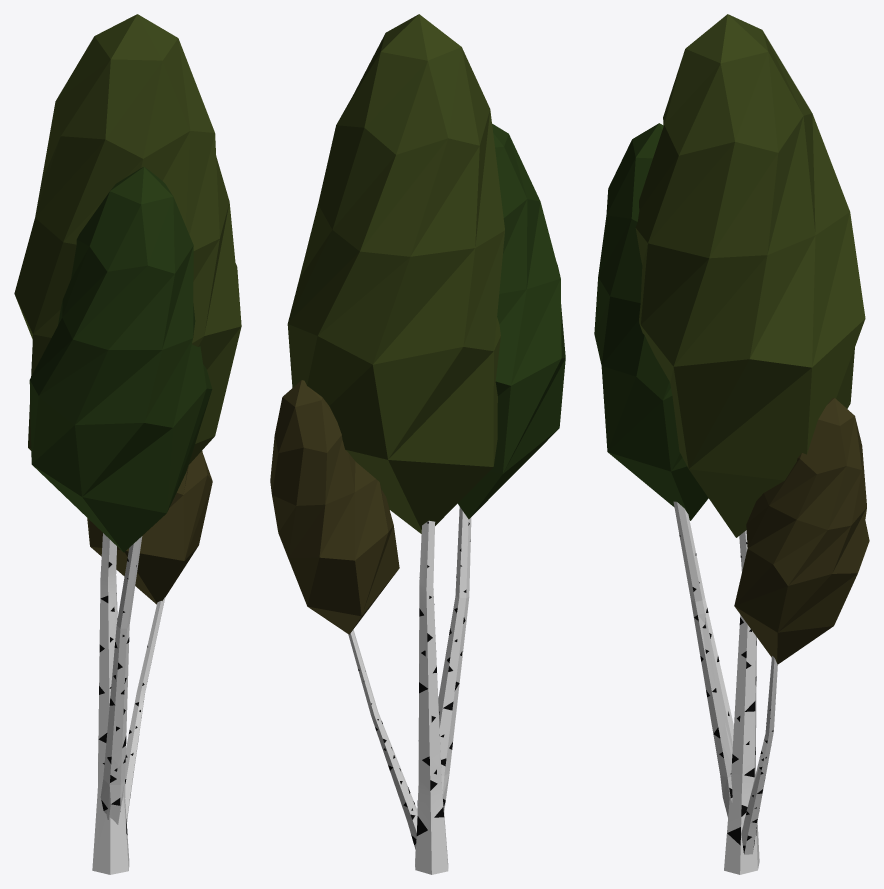
The model's file is birchtree.FBX.
3 renders of one model, left to right at view 1: azimuth 30°, elevation 25°; view 2: azimuth 150°, elevation 25°; view 3: azimuth 270°, elevation 25°, orthographic. The views are drawn at different scales.
Visible parts, largest first — view 1: Object270; view 2: Object270; view 3: Object270.
Part boxes in pixels (<box>): Object270: <box>14,14,241,874</box>; Object270: <box>270,14,565,874</box>; Object270: <box>594,14,869,874</box>.
Size of the model in its own units: 24.18 by 84.96 by 24.59.
